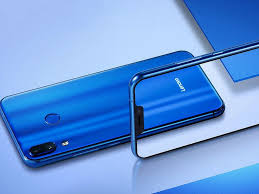lenovo: (1, 43, 224, 166)
